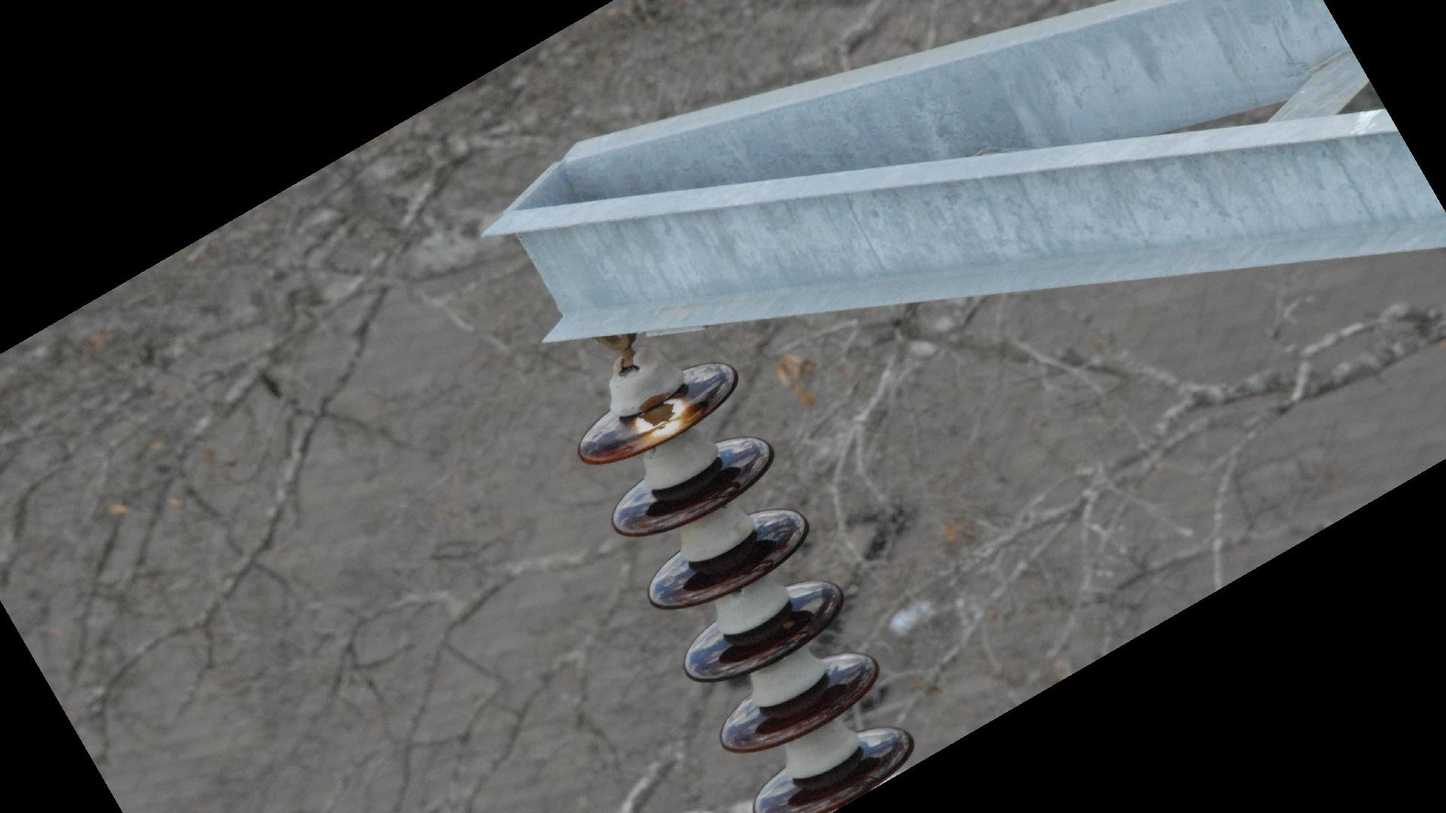insulator: (572, 358, 920, 813)
insulator_flashover: (627, 394, 695, 455)
